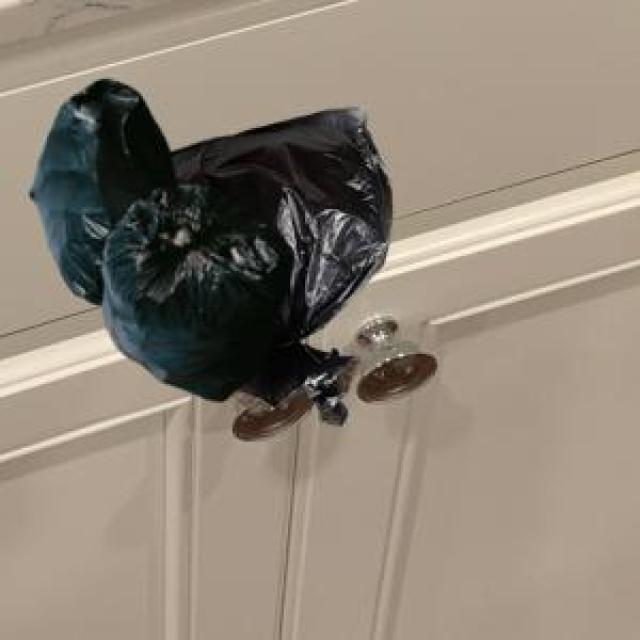miscellaneous trash: (26, 75, 290, 397), (166, 105, 388, 425)
